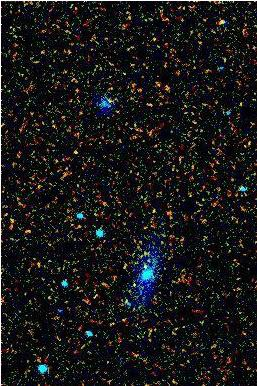star: (128, 247, 158, 277)
